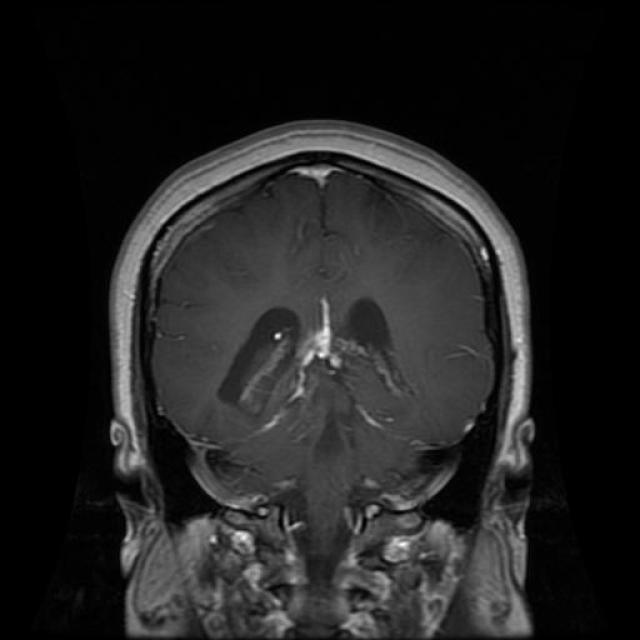glioma: (218, 297, 412, 423)
